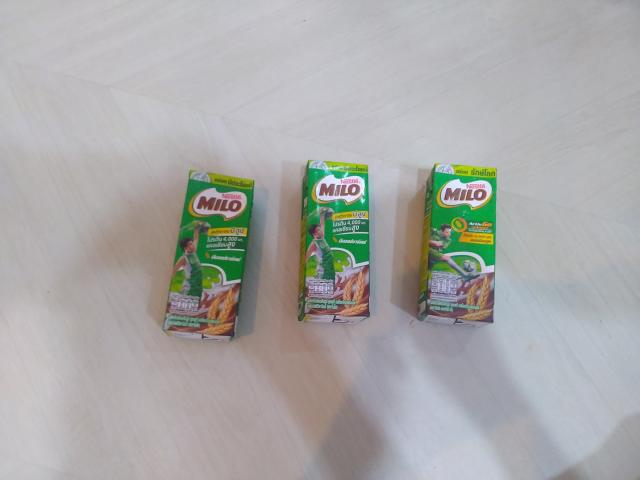drink_box: (164, 170, 255, 340), (419, 164, 496, 326), (298, 160, 370, 324)
